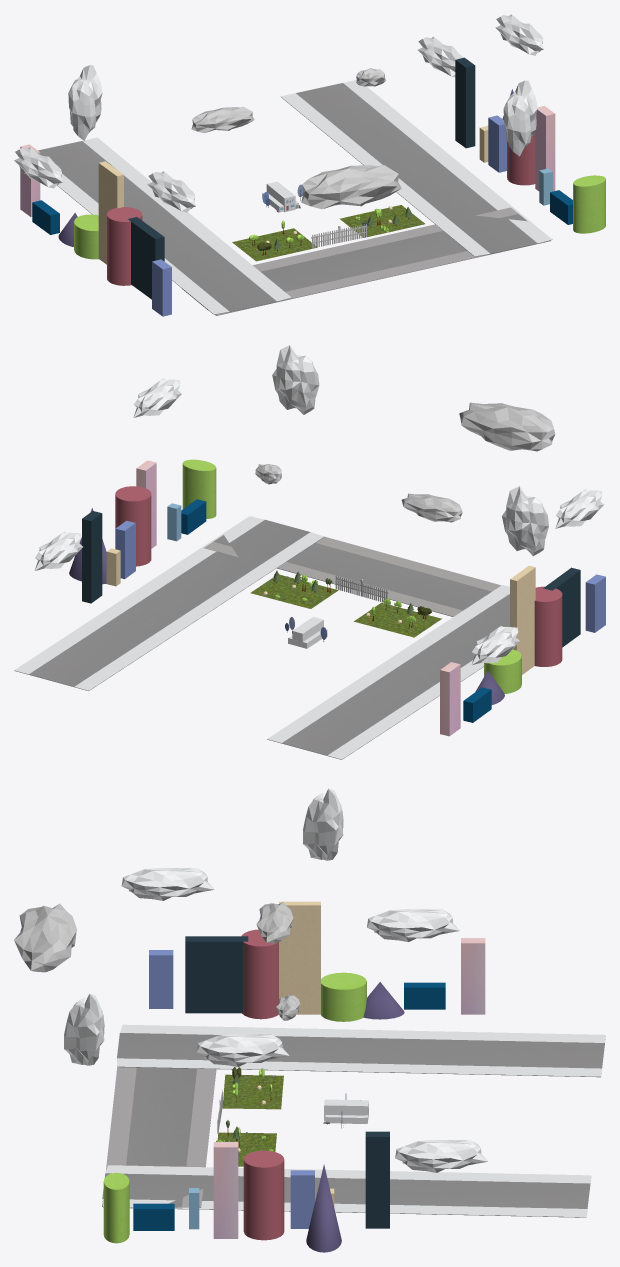
The model's file is casa.obj.
3 renders of one model, top to bottom at view 1: azimuth 30°, elevation 25°; view 2: azimuth 150°, elevation 25°; view 3: azimuth 270°, elevation 25°, orthographic. The views are drawn at different scales.
Parts seen in each view (by area): view 1: group14 pasted__pCube62, group14 pasted__pCube61, pCube63, pasted__cloudspCube3 group22, pCylinder11, pCube71, pasted__pCube5clouds1 group21, group21 pasted__pCube5clouds, pCylinder9, pCube69, pCube72, pCube75 (+17 smaller); view 2: group14 pasted__pCube62, group14 pasted__pCube61, pCube63, pasted__cloudspCube3 group22, pasted__pCube5clouds1 group21, group21 pasted__pCube5clouds, pCylinder11, pCube72, pCylinder8, pCube69, pCylinder9, pCube71 (+15 smaller); view 3: group14 pasted__pCube61, group14 pasted__pCube62, pCube63, pCube71, pCube72, pCylinder8, pasted__cloudspCube3 group22, pCylinder11, pCube75, pCube69, pasted__cloudspCube6 group19, group20 pasted__cloudspCube4 (+16 smaller).
Part boxes in pixels (x1=…): group14 pasted__pCube62: x1=280, y1=80, x2=552, y2=256; group14 pasted__pCube61: x1=38, y1=137, x2=291, y2=314; pCube63: x1=182, y1=207, x2=550, y2=315; pasted__cloudspCube3 group22: x1=301, y1=165, x2=401, y2=209; pCylinder11: x1=107, y1=207, x2=142, y2=285; pCube71: x1=128, y1=217, x2=164, y2=299; pasted__pCube5clouds1 group21: x1=68, y1=65, x2=102, y2=140; group21 pasted__pCube5clouds: x1=503, y1=80, x2=537, y2=156; pCylinder9: x1=573, y1=175, x2=605, y2=233; pCube69: x1=455, y1=57, x2=475, y2=148; pCube72: x1=98, y1=161, x2=123, y2=264; pCube75: x1=535, y1=106, x2=555, y2=191; group14 pasted__pCube62: x1=14, y1=516, x2=323, y2=690; group14 pasted__pCube61: x1=267, y1=585, x2=509, y2=759; pCube63: x1=204, y1=516, x2=501, y2=616; pasted__cloudspCube3 group22: x1=459, y1=402, x2=555, y2=451; pasted__pCube5clouds1 group21: x1=502, y1=486, x2=548, y2=556; group21 pasted__pCube5clouds: x1=272, y1=345, x2=319, y2=414; pCylinder11: x1=534, y1=586, x2=562, y2=666; pCube72: x1=510, y1=565, x2=535, y2=674; pCylinder8: x1=115, y1=486, x2=151, y2=566; pCube69: x1=82, y1=511, x2=102, y2=603; pCylinder9: x1=182, y1=459, x2=216, y2=518; pCube71: x1=543, y1=567, x2=580, y2=647; group14 pasted__pCube61: x1=117, y1=1024, x2=605, y2=1077; group14 pasted__pCube62: x1=102, y1=1165, x2=591, y2=1217; pCube63: x1=102, y1=1066, x2=216, y2=1207; pCube71: x1=185, y1=936, x2=248, y2=1013; pCube72: x1=279, y1=901, x2=320, y2=1014; pCylinder8: x1=243, y1=1150, x2=284, y2=1240; pasted__cloudspCube3 group22: x1=14, y1=903, x2=76, y2=972; pCylinder11: x1=241, y1=929, x2=278, y2=1019; pCube75: x1=213, y1=1142, x2=238, y2=1238; pCube69: x1=365, y1=1131, x2=389, y2=1228; pasted__cloudspCube6 group19: x1=367, y1=909, x2=459, y2=941; group20 pasted__cloudspCube4: x1=196, y1=1034, x2=289, y2=1066.
Size of the model in its own units: 1787 by 707 by 1712.
89 materials, 89 textured.
